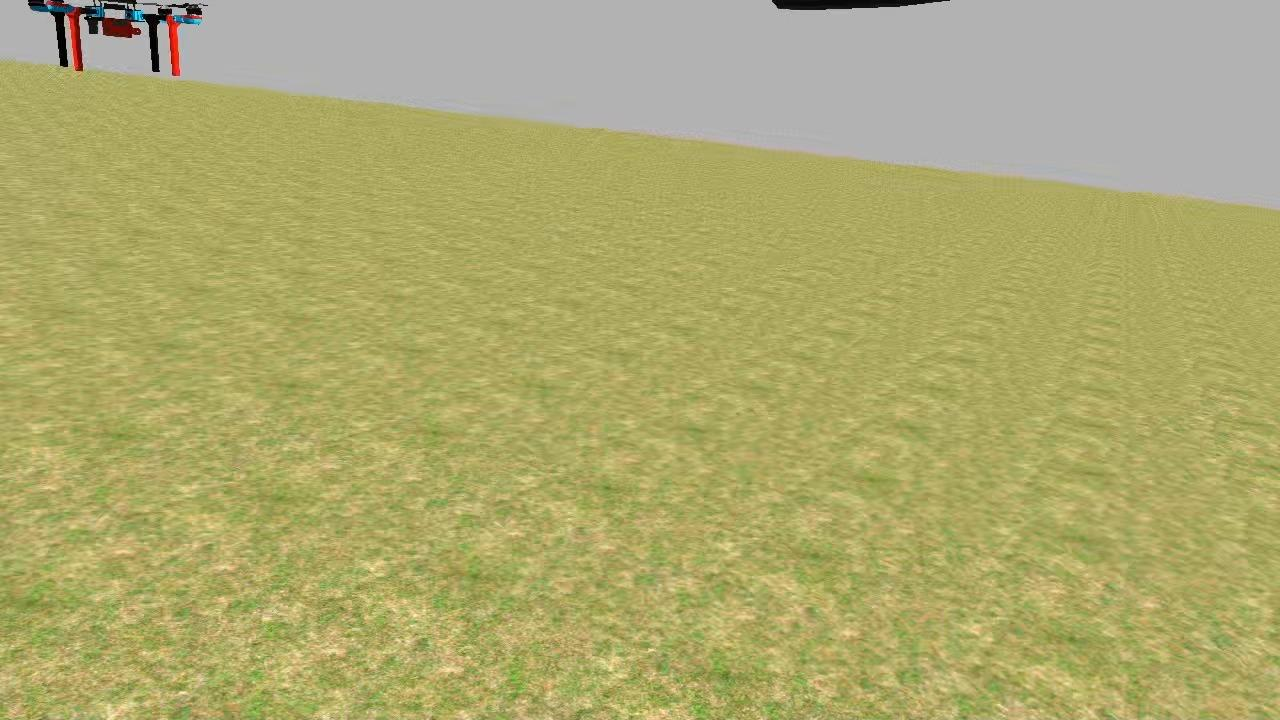UAV: (24, 0, 218, 82)
